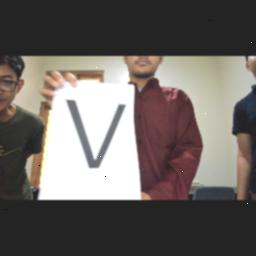v: (60, 96, 126, 172)
